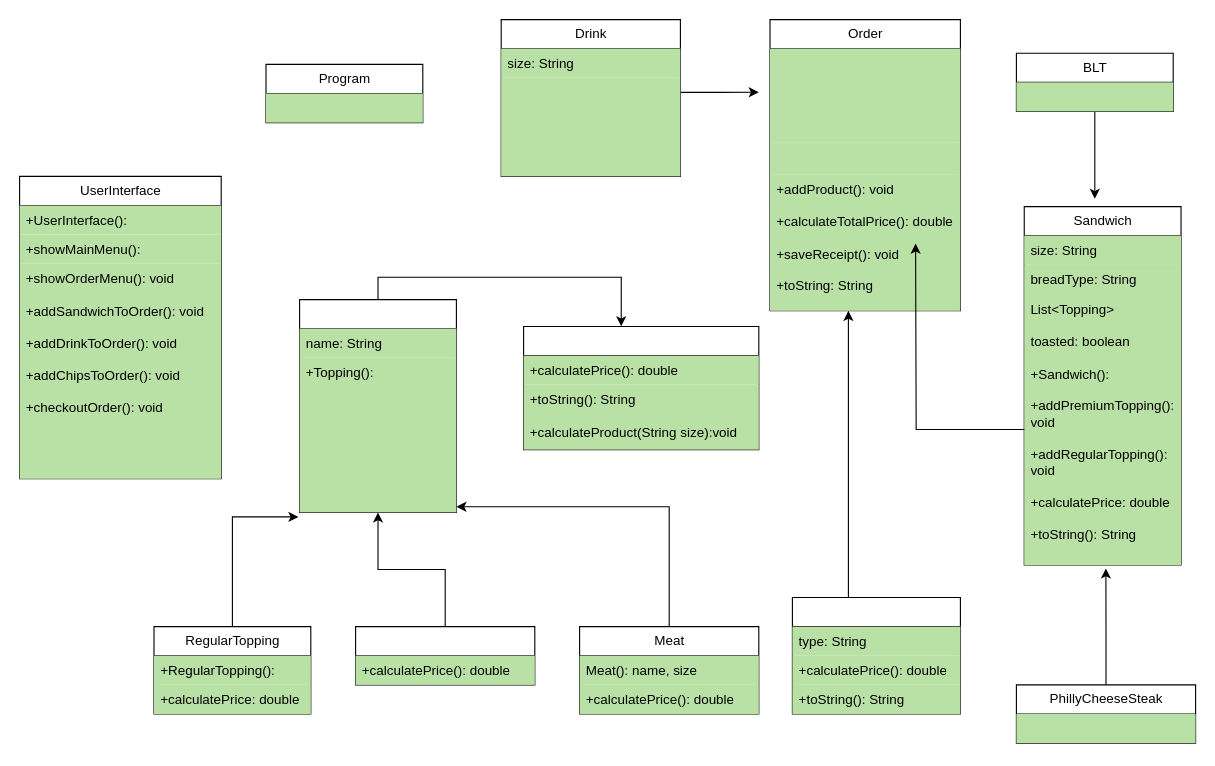
Some shapes in this 1215 by 766 pixel diagram are drawn without their labels. Each missing label, with the box of its shape:
+BLT(): void: (1016, 82, 1173, 111)
+calculatePrice(): double +toString(): String: (501, 106, 680, 176)
+getName(): String +calculatePrice(): double +toString(): String: (299, 386, 456, 512)
+Order(): (769, 142, 960, 174)
+PhillyCheeseSteak(): void: (1016, 713, 1195, 743)
<<Abstract>> Topping: (298, 298, 456, 512)
<<InterFace>>Product: (522, 325, 759, 450)
Cheese: (354, 626, 535, 685)
Chips: (791, 596, 960, 714)
flavor: String: (501, 77, 680, 106)
List<Drink> List<Chips> List<Sandwich>: (769, 48, 960, 142)
main(): (265, 93, 422, 122)
